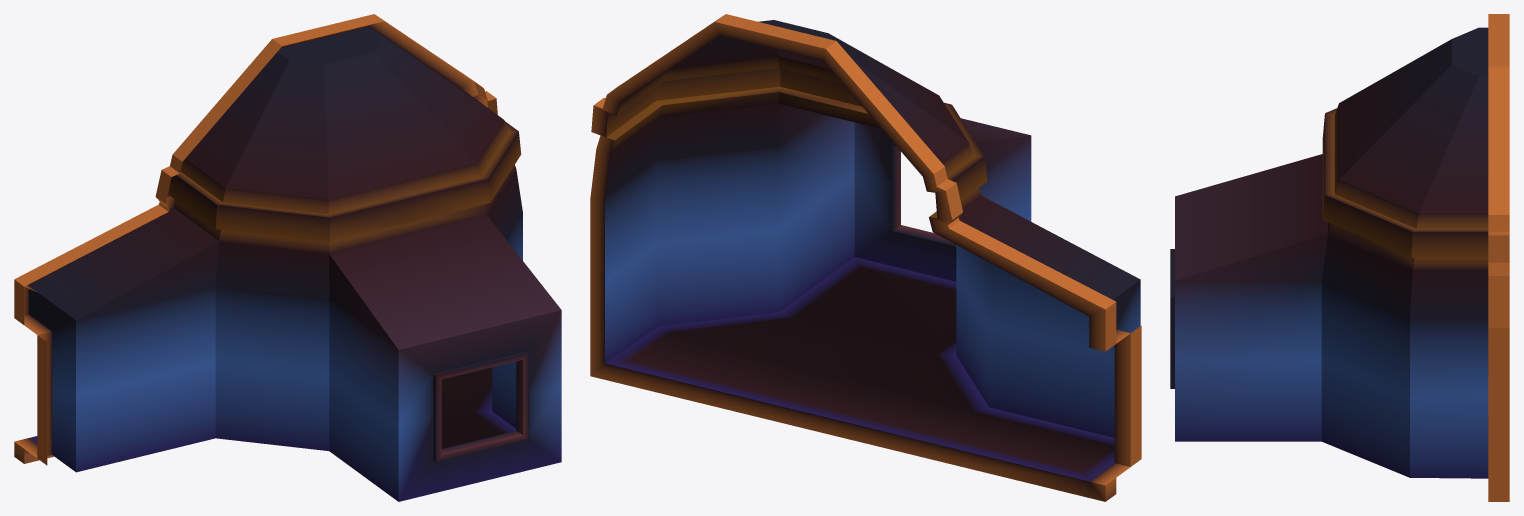
File: Mercona_hut_3_interior.obj
3 renders of one model, left to right at view 1: azimuth 30°, elevation 25°; view 2: azimuth 150°, elevation 25°; view 3: azimuth 270°, elevation 25°, orthographic. The views are drawn at different scales.
Visible parts, largest first — view 1: Mercona_hut_3_interior, Mercona_hut_3_interior.001; view 2: Mercona_hut_3_interior, Mercona_hut_3_interior.001; view 3: Mercona_hut_3_interior, Mercona_hut_3_interior.001.
Boxes of the visible parts, box(x1,y1,x2,y2) form: Mercona_hut_3_interior: box(29, 26, 561, 501); Mercona_hut_3_interior.001: box(14, 14, 497, 465); Mercona_hut_3_interior: box(605, 20, 1140, 481); Mercona_hut_3_interior.001: box(590, 14, 1141, 501); Mercona_hut_3_interior: box(1170, 27, 1488, 478); Mercona_hut_3_interior.001: box(1488, 14, 1509, 501).
Size of the model in its own units: 12.15 by 8.67 by 7.09.
